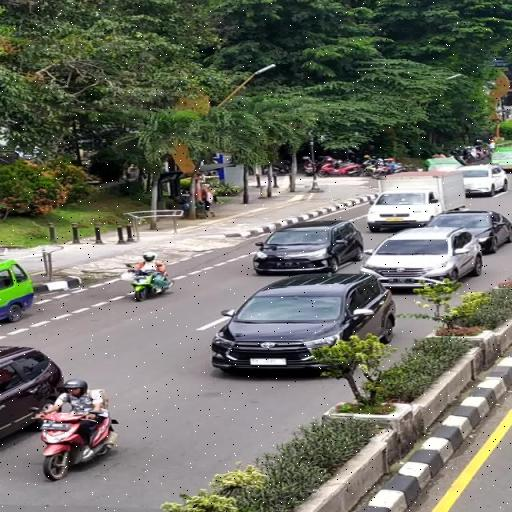Helmet: (65, 378, 89, 401), (142, 250, 157, 262)
Motor: (41, 410, 116, 480), (132, 272, 171, 301)
